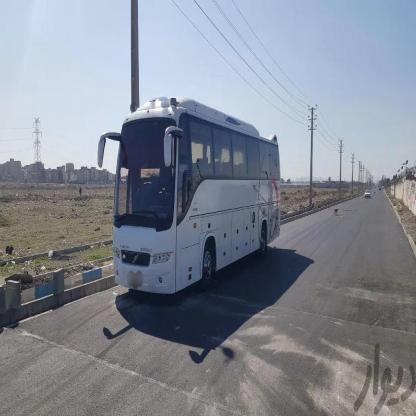Bus: (109, 83, 286, 295)
Car: (364, 184, 372, 202)
